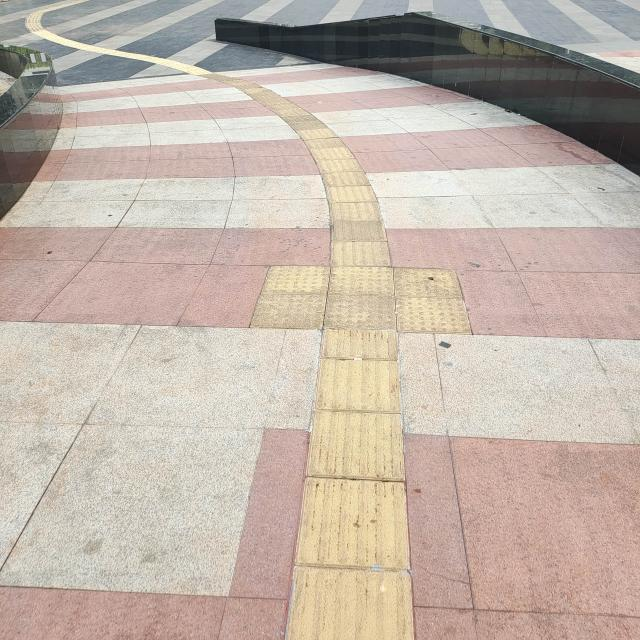lurus: (306, 177, 400, 640)
